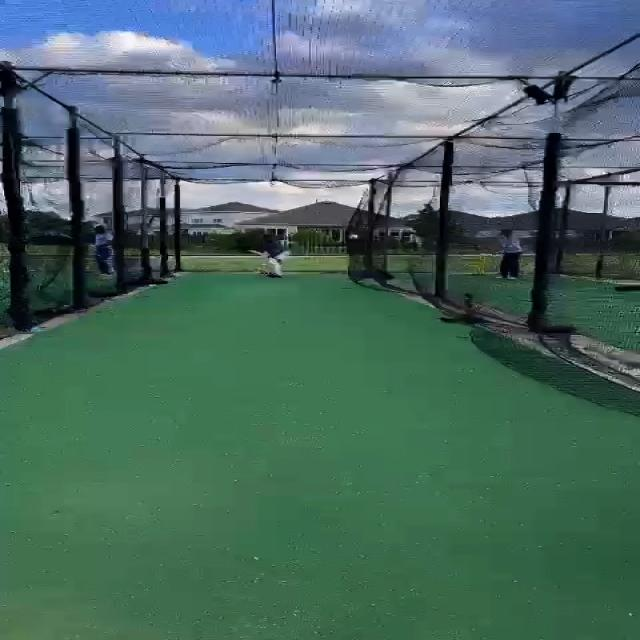batsman: (246, 234, 292, 279)
